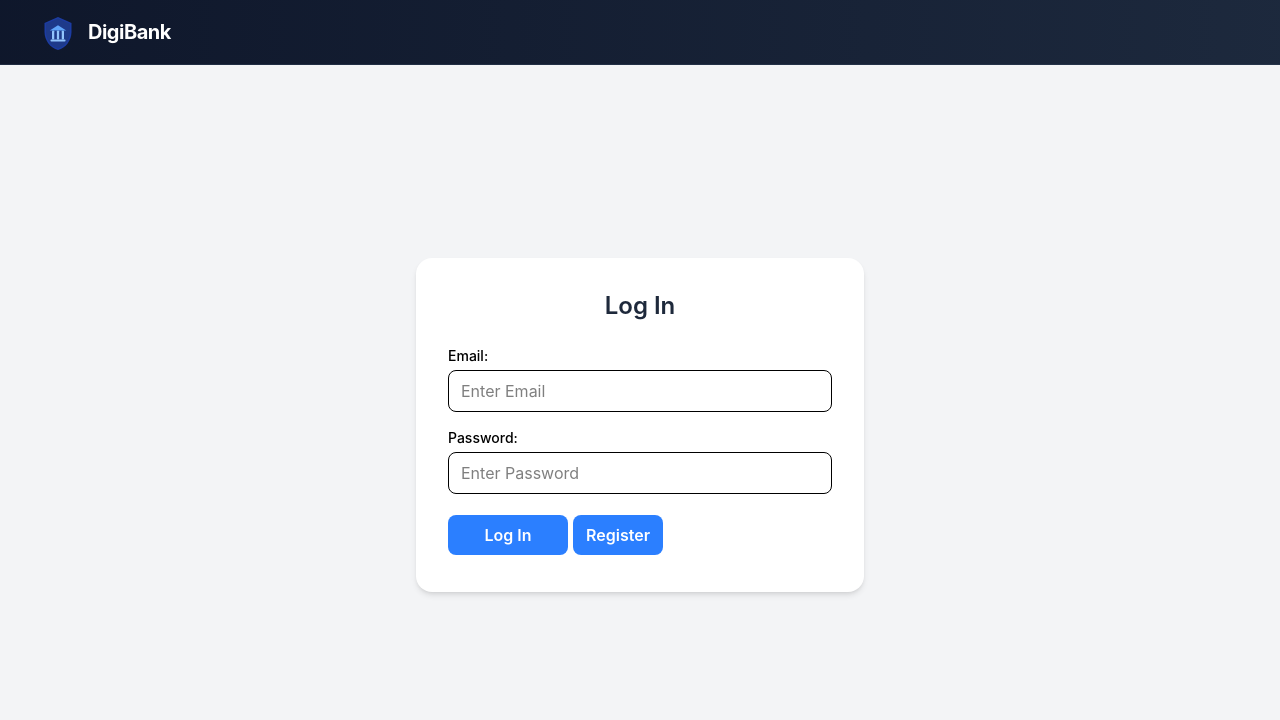
Test: Login Page › should show validation error for short password
Type "user@bank.com" into the field with placeholder "Enter Email" at [640, 391], box [448,370,832,412]
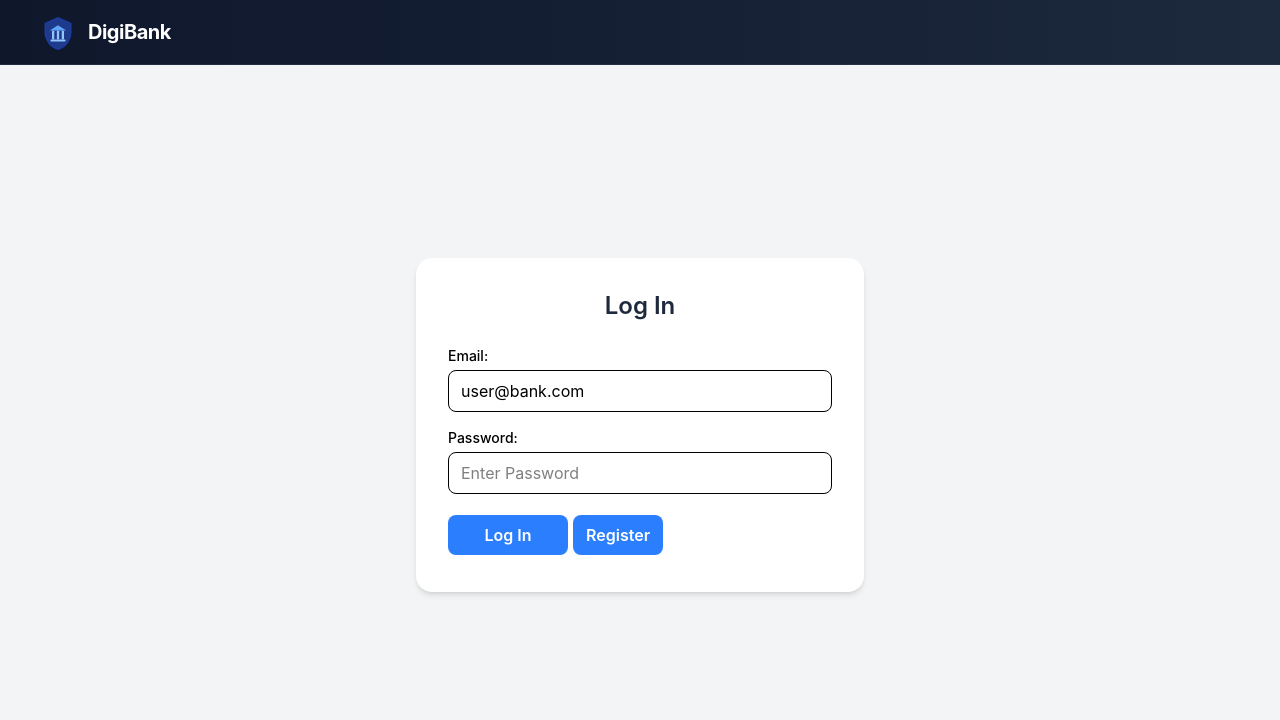
Type "123" into the password field with placeholder "Enter Password" at [640, 473], box [448,452,832,494]
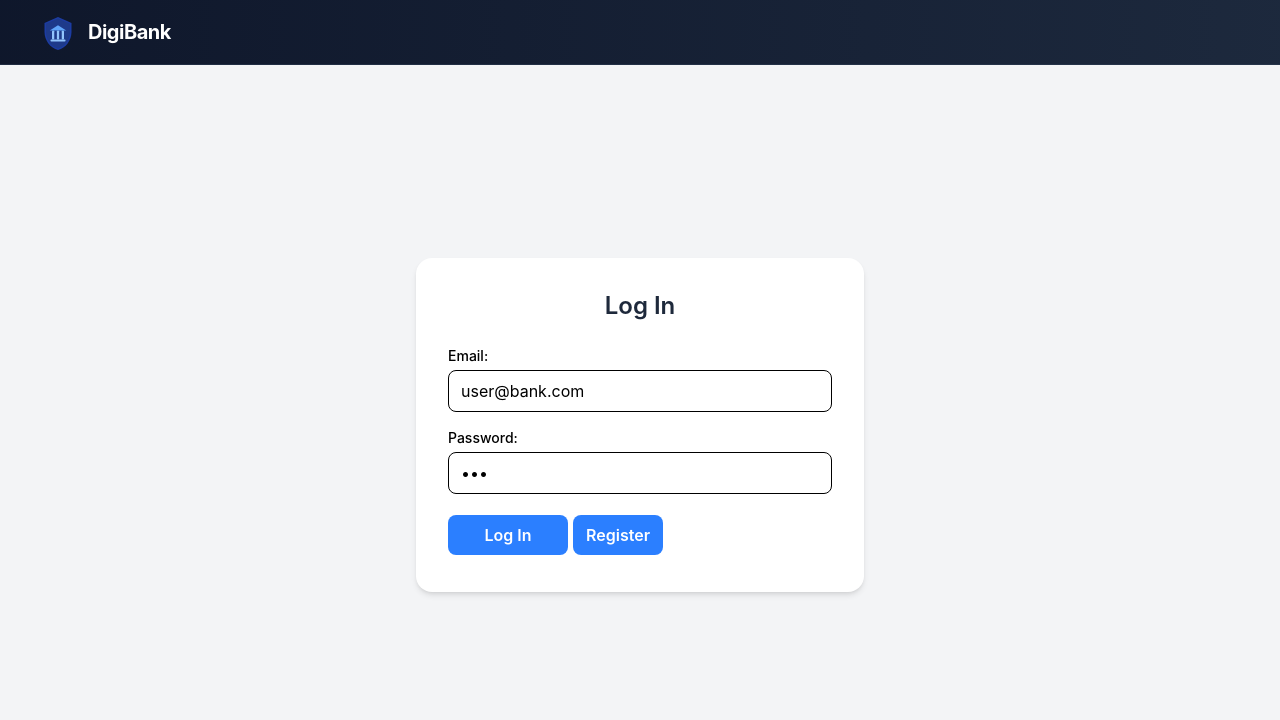
Submit the form with placeholder "Enter Email", box [448,346,832,560]
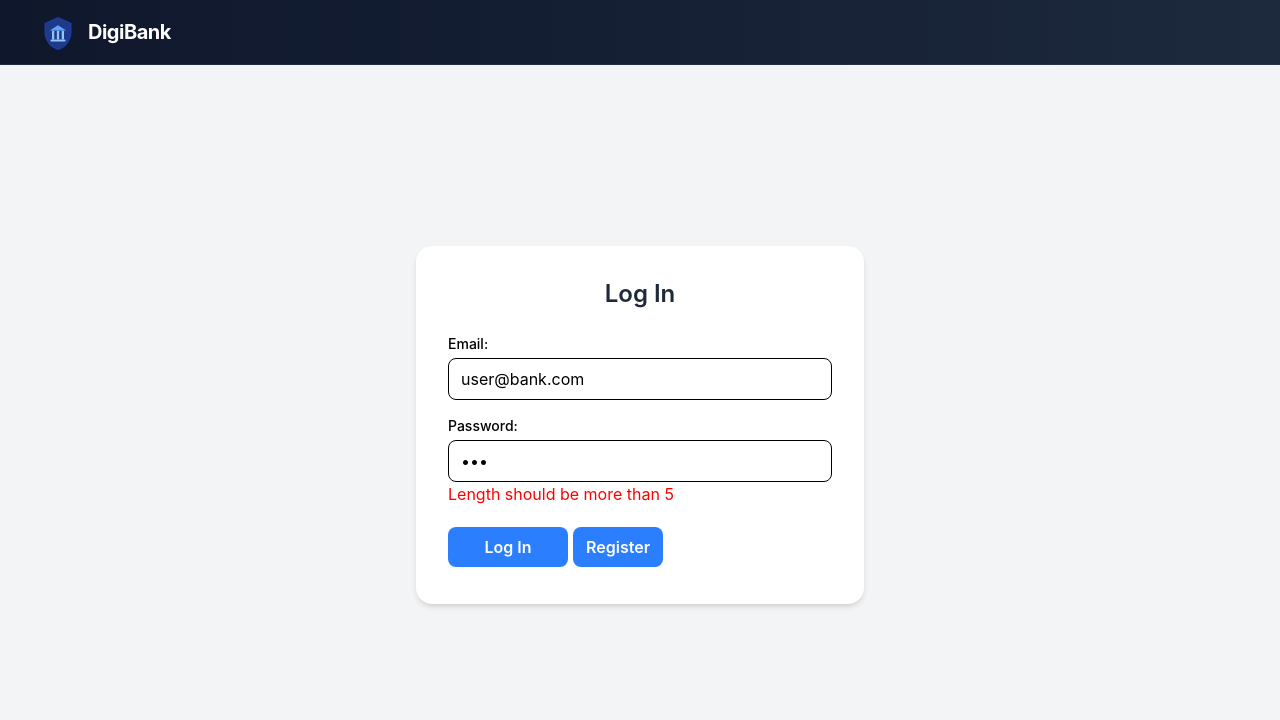
Result: the text "Length should be more than 5" is shown at [448,484,674,504]
